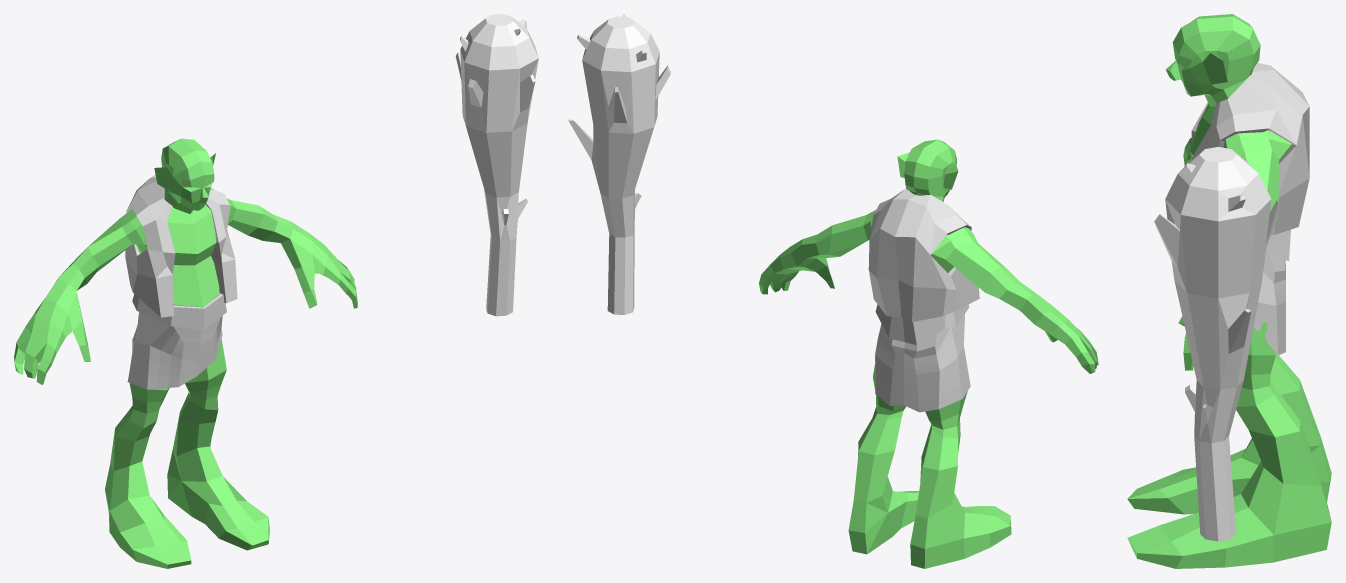
Rendered from Troll.gltf.
The picture shows the model from 3 angles, left to right: view 1: azimuth 30°, elevation 25°; view 2: azimuth 150°, elevation 25°; view 3: azimuth 270°, elevation 25°; orthographic projection. The views are drawn at different scales.
Visible parts, largest first — view 1: body, club, vest, trousers; view 2: body, club, vest, trousers; view 3: body, club, vest, trousers.
Boxes of the visible parts, x1,y1,x2,y2 form: body: [14, 138, 357, 568]; club: [455, 14, 538, 316]; vest: [125, 174, 237, 317]; trousers: [127, 293, 226, 389]; body: [759, 139, 1098, 568]; club: [567, 14, 670, 314]; vest: [868, 189, 979, 321]; trousers: [875, 304, 970, 412]; body: [1127, 14, 1331, 568]; club: [1154, 147, 1280, 541]; vest: [1190, 63, 1309, 235]; trousers: [1253, 229, 1290, 355].
Size of the model in its own units: 604 by 480 by 156.
